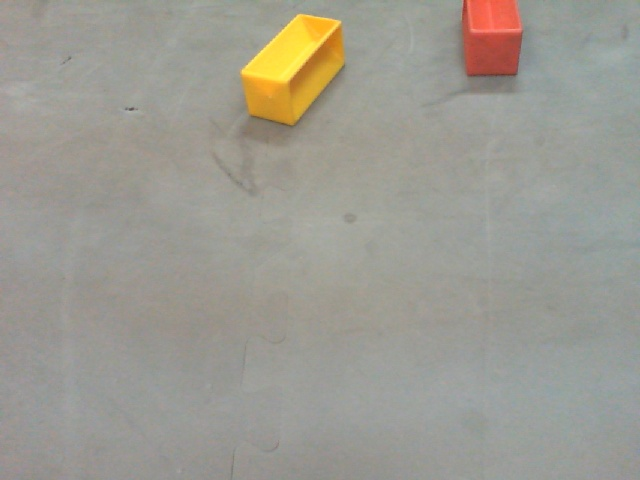RedSample: (459, 1, 526, 79)
YellowSample: (241, 14, 344, 124)
